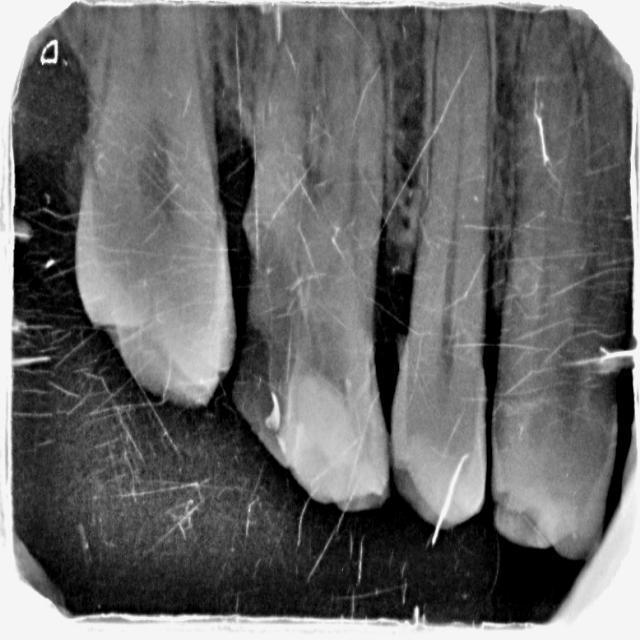individual-tooth-8tto: (227, 0, 393, 515), (489, 5, 633, 563), (79, 0, 224, 401), (385, 0, 487, 539)
